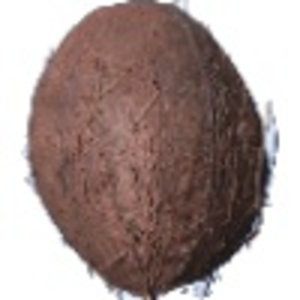coco: (23, 1, 280, 300)
